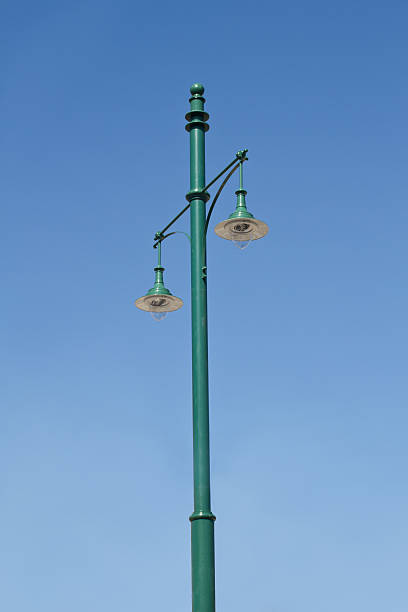light_pole: (185, 112, 220, 610)
